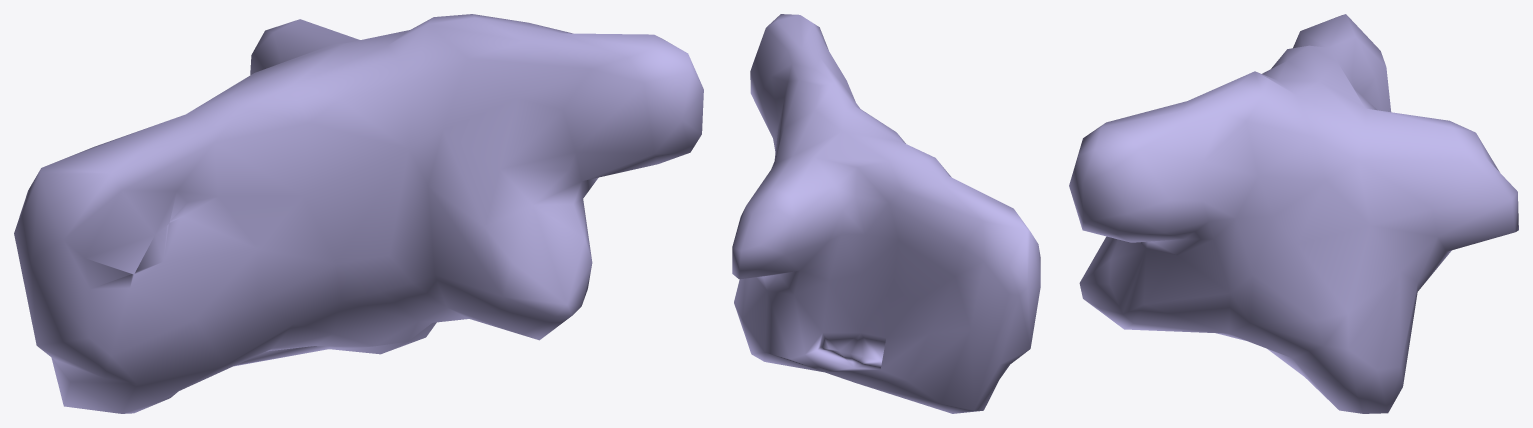
The model's file is MigrationRock3.fbx.
3 renders of one model, left to right at view 1: azimuth 30°, elevation 25°; view 2: azimuth 150°, elevation 25°; view 3: azimuth 270°, elevation 25°, orthographic. The views are drawn at different scales.
Visible parts, largest first — view 1: WeirdRocks.002; view 2: WeirdRocks.002; view 3: WeirdRocks.002.
Boxes of the visible parts, left/top/right/bottom form: WeirdRocks.002: left=14, top=14, right=703, bottom=413; WeirdRocks.002: left=732, top=14, right=1040, bottom=413; WeirdRocks.002: left=1069, top=14, right=1518, bottom=413.
Bounding box in the file's own units: 5122 × 3402 × 4132.
